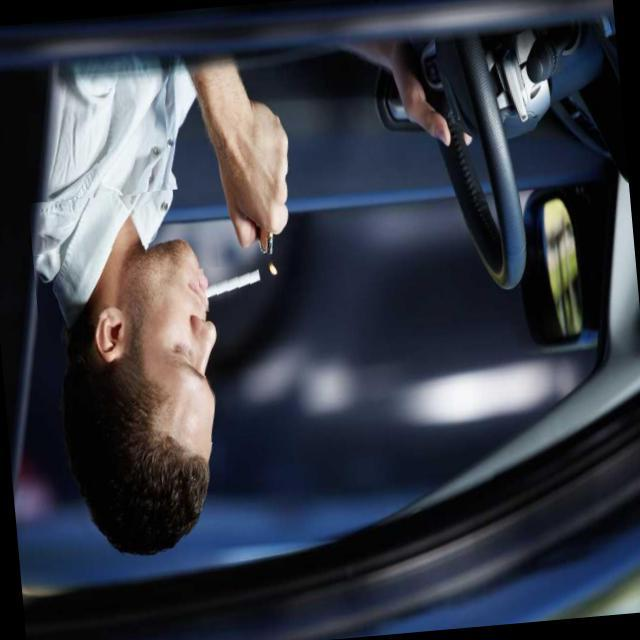cigarette: (198, 264, 270, 318)
